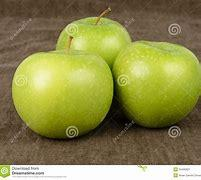apple: (9, 50, 112, 137), (112, 38, 201, 126), (59, 11, 127, 53)
